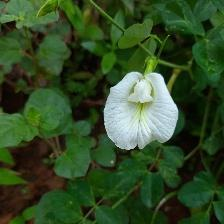shankupushpam: (101, 71, 181, 153)
